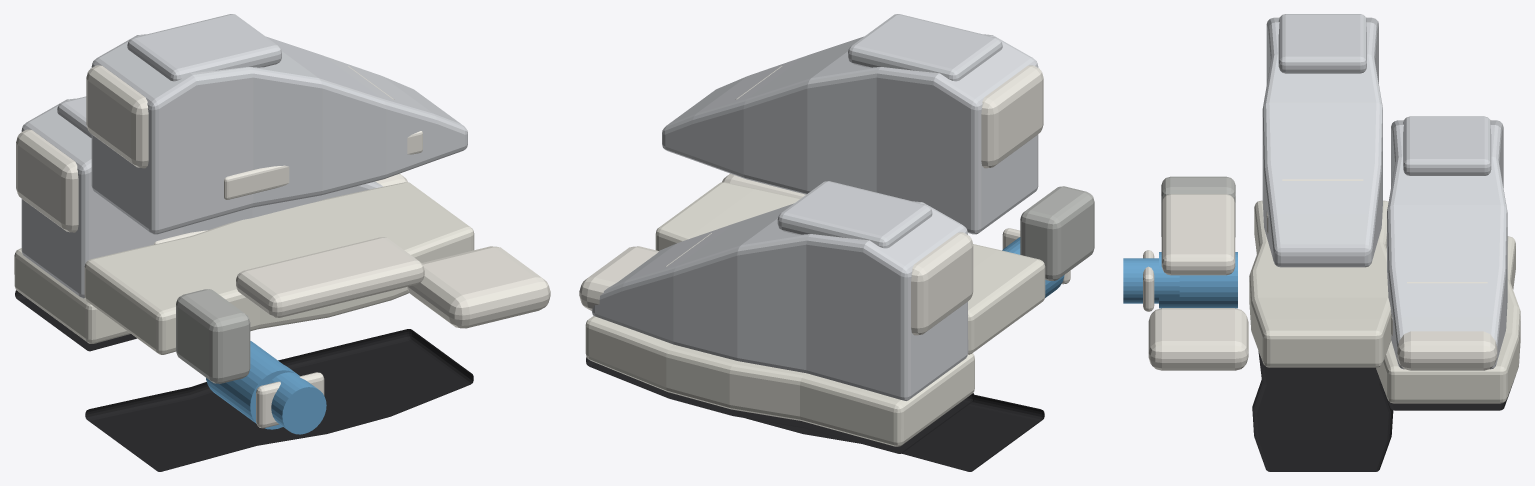
Rendered from nike-air-max-1-1987.glb.
3 renders of one model, left to right at view 1: azimuth 30°, elevation 25°; view 2: azimuth 150°, elevation 25°; view 3: azimuth 270°, elevation 25°, orthographic. The views are drawn at different scales.
Parts seen in each view (by area): view 1: nike-air-max-1-1987_UPPER_EXPLODED, nike-air-max-1-1987_MIDSOLE_EXPLODED, nike-air-max-1-1987_OUTSOLE_EXPLODED, nike-air-max-1-1987_UPPER, nike-air-max-1-1987_EYESTAY_EXPLODED, nike-air-max-1-1987_TOE_OVERLAY_EXPLODED, nike-air-max-1-1987_TONGUE_EXPLODED, nike-air-max-1-1987_HEEL_FOAM_EXPLODED, nike-air-max-1-1987_HEEL_COUNTER, nike-air-max-1-1987_HEEL_COUNTER_EXPLODED, nike-air-max-1-1987_MIDSOLE, nike-air-max-1-1987_VISIBLE_AIR_EXPLODED (+5 smaller); view 2: nike-air-max-1-1987_UPPER, nike-air-max-1-1987_UPPER_EXPLODED, nike-air-max-1-1987_MIDSOLE, nike-air-max-1-1987_MIDSOLE_EXPLODED, nike-air-max-1-1987_TONGUE, nike-air-max-1-1987_TONGUE_EXPLODED, nike-air-max-1-1987_OUTSOLE_EXPLODED, nike-air-max-1-1987_HEEL_FOAM_EXPLODED, nike-air-max-1-1987_HEEL_COUNTER, nike-air-max-1-1987_HEEL_COUNTER_EXPLODED, nike-air-max-1-1987_OUTSOLE, nike-air-max-1-1987_TOE_OVERLAY (+1 smaller); view 3: nike-air-max-1-1987_UPPER_EXPLODED, nike-air-max-1-1987_UPPER, nike-air-max-1-1987_MIDSOLE_EXPLODED, nike-air-max-1-1987_OUTSOLE_EXPLODED, nike-air-max-1-1987_MIDSOLE, nike-air-max-1-1987_TOE_OVERLAY_EXPLODED, nike-air-max-1-1987_EYESTAY_EXPLODED, nike-air-max-1-1987_TONGUE, nike-air-max-1-1987_TONGUE_EXPLODED, nike-air-max-1-1987_TOE_OVERLAY, nike-air-max-1-1987_AIR_HEEL_EXPLODED, nike-air-max-1-1987_VISIBLE_AIR_EXPLODED (+3 smaller).
Boxes of the visible parts, x1,y1,x2,y2 form: nike-air-max-1-1987_UPPER_EXPLODED: [91, 34, 467, 234]; nike-air-max-1-1987_MIDSOLE_EXPLODED: [84, 182, 474, 354]; nike-air-max-1-1987_OUTSOLE_EXPLODED: [85, 329, 473, 471]; nike-air-max-1-1987_UPPER: [21, 98, 382, 298]; nike-air-max-1-1987_EYESTAY_EXPLODED: [236, 237, 424, 317]; nike-air-max-1-1987_TOE_OVERLAY_EXPLODED: [407, 246, 550, 328]; nike-air-max-1-1987_TONGUE_EXPLODED: [127, 14, 281, 81]; nike-air-max-1-1987_HEEL_FOAM_EXPLODED: [176, 289, 250, 383]; nike-air-max-1-1987_HEEL_COUNTER: [16, 129, 78, 232]; nike-air-max-1-1987_HEEL_COUNTER_EXPLODED: [86, 65, 148, 168]; nike-air-max-1-1987_MIDSOLE: [14, 248, 130, 343]; nike-air-max-1-1987_VISIBLE_AIR_EXPLODED: [268, 365, 326, 434]; nike-air-max-1-1987_UPPER: [591, 201, 968, 400]; nike-air-max-1-1987_UPPER_EXPLODED: [662, 34, 1038, 234]; nike-air-max-1-1987_MIDSOLE: [585, 316, 974, 446]; nike-air-max-1-1987_MIDSOLE_EXPLODED: [655, 182, 1045, 354]; nike-air-max-1-1987_TONGUE: [777, 181, 932, 248]; nike-air-max-1-1987_TONGUE_EXPLODED: [848, 14, 1002, 81]; nike-air-max-1-1987_OUTSOLE_EXPLODED: [746, 394, 1044, 471]; nike-air-max-1-1987_HEEL_FOAM_EXPLODED: [1020, 186, 1094, 280]; nike-air-max-1-1987_HEEL_COUNTER: [911, 232, 973, 335]; nike-air-max-1-1987_HEEL_COUNTER_EXPLODED: [981, 65, 1043, 168]; nike-air-max-1-1987_OUTSOLE: [586, 357, 974, 453]; nike-air-max-1-1987_TOE_OVERLAY: [579, 246, 658, 310]; nike-air-max-1-1987_UPPER_EXPLODED: [1262, 17, 1382, 267]; nike-air-max-1-1987_UPPER: [1387, 120, 1507, 369]; nike-air-max-1-1987_MIDSOLE_EXPLODED: [1249, 200, 1391, 367]; nike-air-max-1-1987_OUTSOLE_EXPLODED: [1252, 351, 1393, 471]; nike-air-max-1-1987_MIDSOLE: [1376, 236, 1520, 403]; nike-air-max-1-1987_TOE_OVERLAY_EXPLODED: [1148, 308, 1248, 370]; nike-air-max-1-1987_EYESTAY_EXPLODED: [1161, 194, 1235, 275]; nike-air-max-1-1987_TONGUE: [1403, 116, 1491, 175]; nike-air-max-1-1987_TONGUE_EXPLODED: [1278, 14, 1366, 73]; nike-air-max-1-1987_TOE_OVERLAY: [1397, 331, 1497, 370]; nike-air-max-1-1987_AIR_HEEL_EXPLODED: [1159, 252, 1237, 308]; nike-air-max-1-1987_VISIBLE_AIR_EXPLODED: [1123, 258, 1179, 303].
Bounding box in the file's own units: 0.3149 × 0.3329 × 0.3516.
